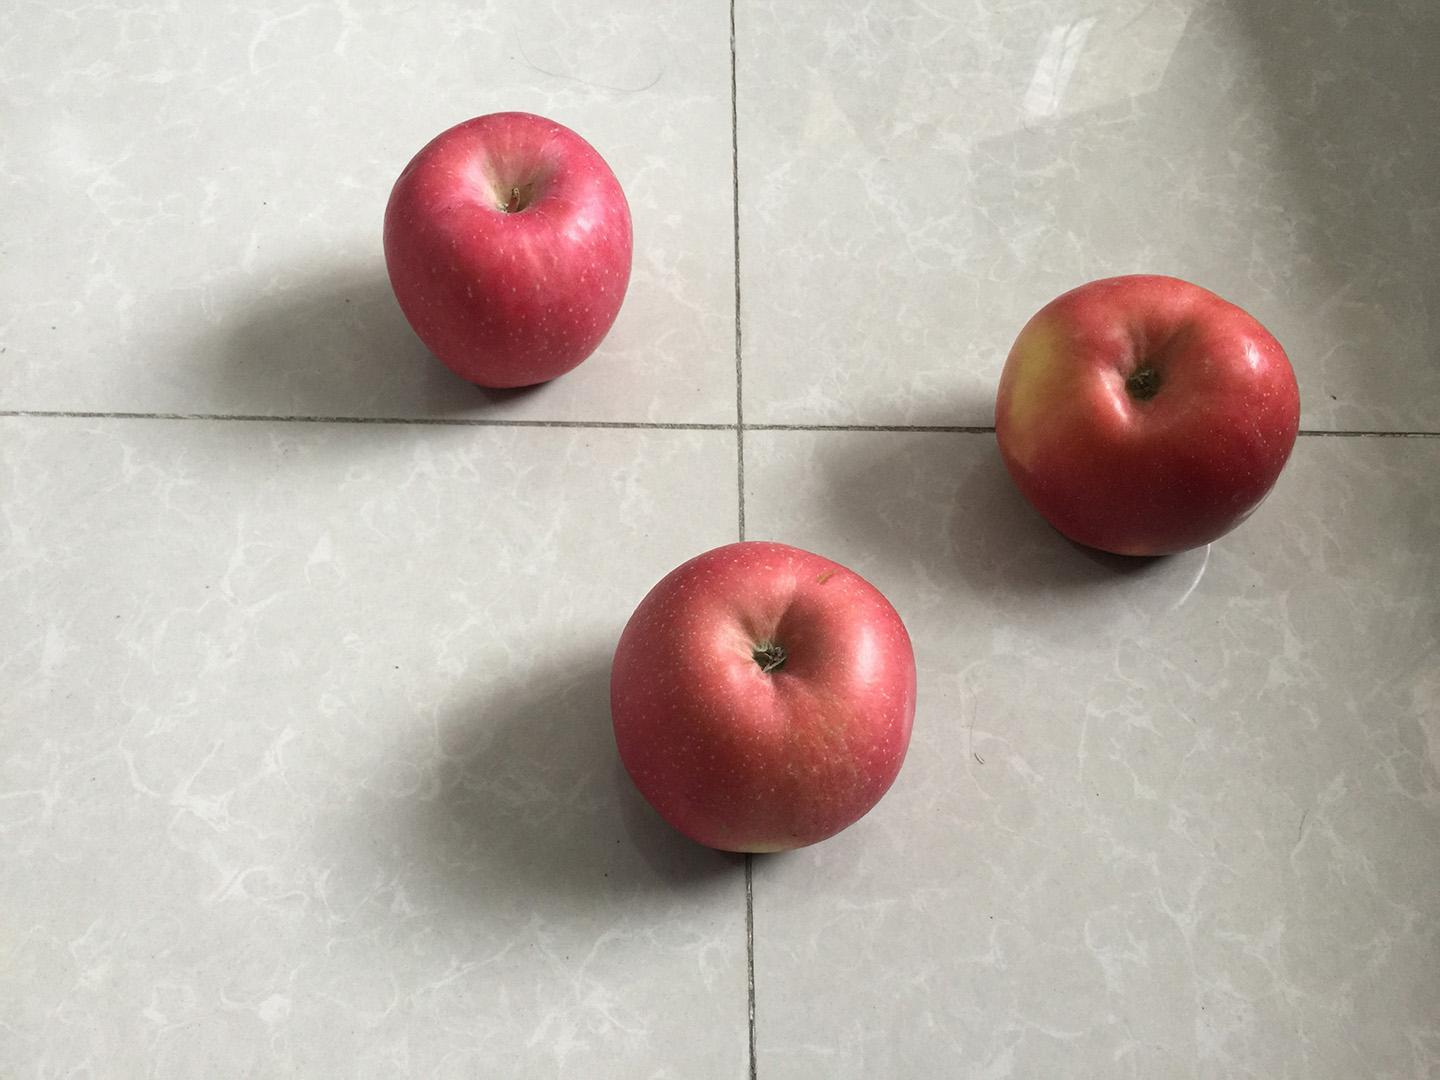apple: (605, 532, 923, 863), (984, 265, 1314, 566), (375, 106, 633, 397)
